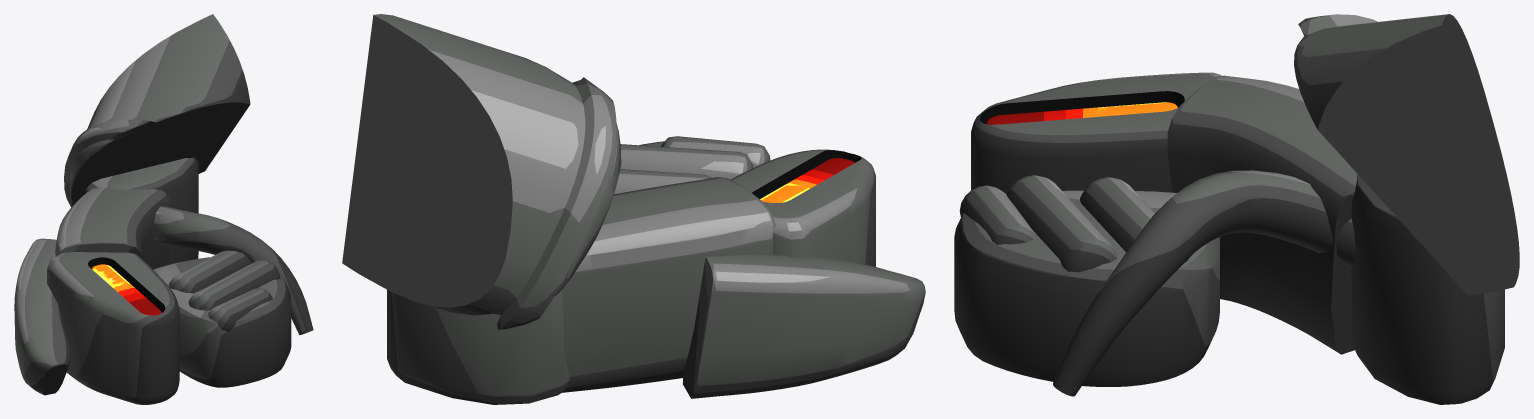
Rendered from mortar_mount_279.glb.
3 views of the same model, side by side, from view 1: azimuth 30°, elevation 25°; view 2: azimuth 150°, elevation 25°; view 3: azimuth 270°, elevation 25° (orthographic). The views are drawn at different scales.
Parts seen in each view (by area): view 1: mortar_mount_279; view 2: mortar_mount_279; view 3: mortar_mount_279.
Boxes of the visible parts, <box> form: mortar_mount_279: <box>14,14,313,404</box>; mortar_mount_279: <box>342,14,925,404</box>; mortar_mount_279: <box>954,14,1519,404</box>.
Size of the model in its own units: 23.39 by 19.01 by 24.36.
